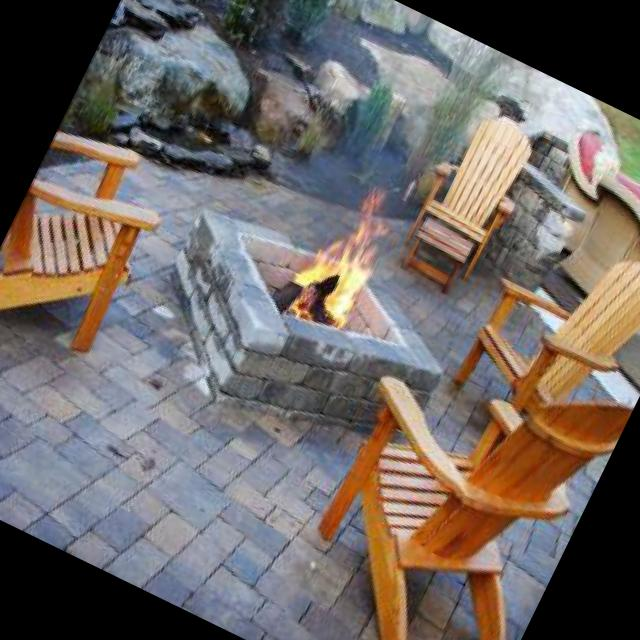fire: (286, 201, 388, 329)
